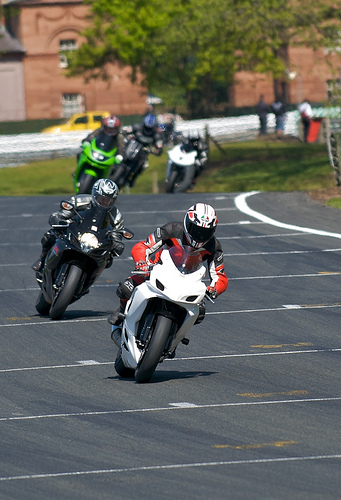helmet: (184, 204, 218, 249), (89, 178, 121, 208), (100, 114, 125, 136)
